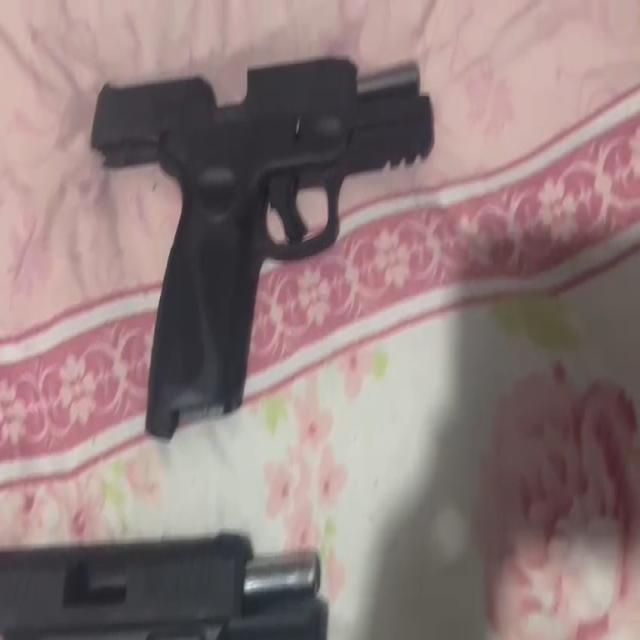gun: (92, 54, 438, 432)
